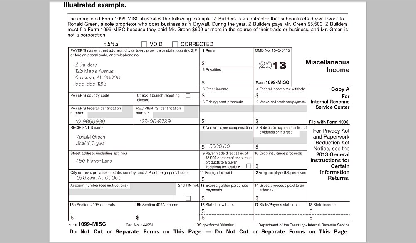checkbox: (141, 41, 148, 47), (171, 41, 178, 47), (185, 92, 191, 99), (185, 195, 191, 202), (245, 162, 251, 169)
textbox: (67, 46, 200, 94), (67, 123, 200, 151), (67, 149, 201, 171), (66, 180, 178, 203), (67, 168, 201, 184), (197, 97, 255, 126), (251, 97, 309, 126), (197, 122, 255, 151), (250, 124, 308, 153), (132, 104, 201, 126), (66, 200, 135, 222), (132, 201, 201, 223), (67, 104, 135, 126), (197, 46, 254, 68), (197, 65, 254, 87), (252, 149, 307, 171), (198, 181, 255, 202), (252, 181, 309, 202), (253, 201, 310, 222), (198, 201, 254, 222), (67, 92, 135, 106), (307, 201, 351, 222), (198, 84, 255, 100), (252, 85, 309, 100), (198, 201, 255, 216), (252, 201, 309, 216), (198, 168, 254, 183), (253, 168, 308, 183), (307, 201, 352, 215)
